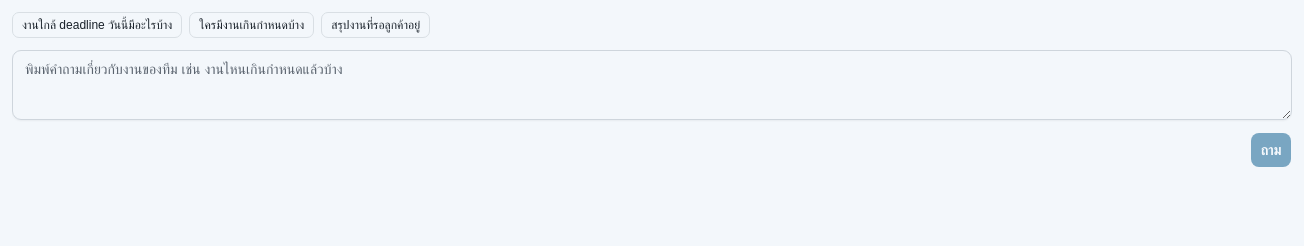
Test: QaClient › asks the trimmed question and renders the answer
This screenshot has width=1304, height=246.
Type "  งานใกล้ deadline?  " into the text box labelled "คำถามเกี่ยวกับงาน" at [652, 85], box [12, 50, 1292, 120]
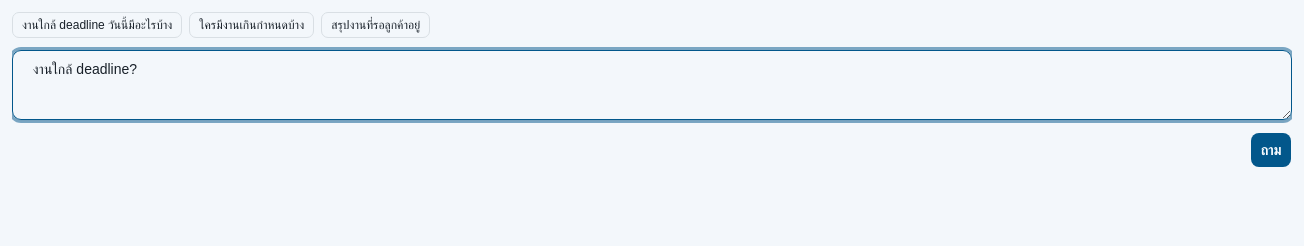
Click the button "ถาม" at [1271, 150], box [1250, 132, 1292, 168]
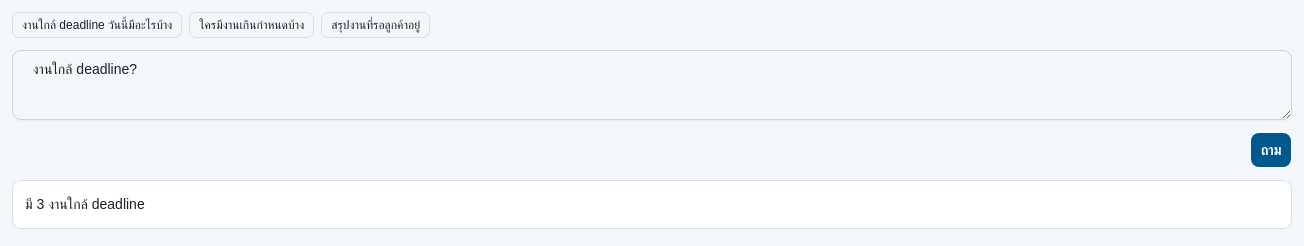
Expected: the text "มี 3 งานใกล้ deadline" is shown, [12, 180, 1292, 229]
